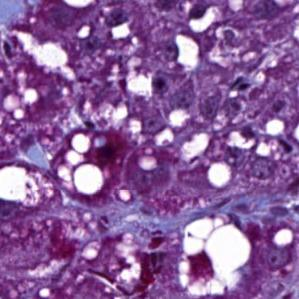ballooning: (178, 216, 253, 297)
